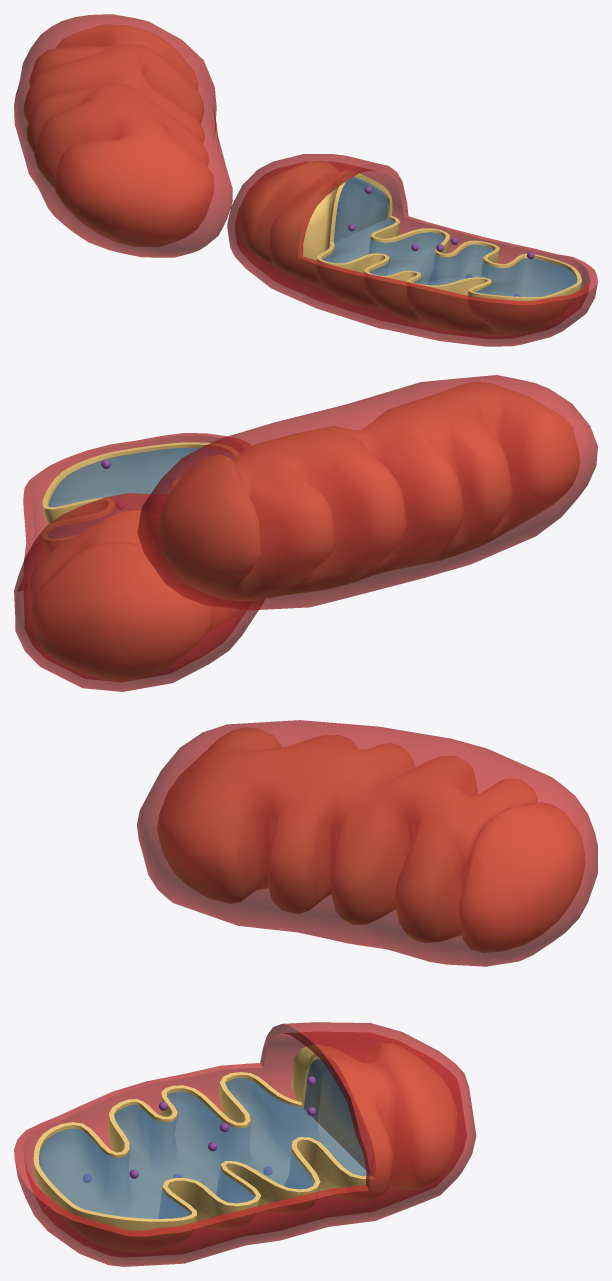
The model's file is mitochondria-open.web.glb.
3 views of the same model, one above another, from view 1: azimuth 30°, elevation 25°; view 2: azimuth 150°, elevation 25°; view 3: azimuth 270°, elevation 25° (orthographic). The views are drawn at different scales.
Parts seen in each view (by area): view 1: Transparent structures_0, Opaque structures_1; view 2: Transparent structures_0, Opaque structures_1; view 3: Transparent structures_0, Opaque structures_1.
Part boxes in pixels (left/top/right/bottom): Transparent structures_0: left=14, top=14, right=597, bottom=346; Opaque structures_1: left=24, top=24, right=581, bottom=335; Transparent structures_0: left=14, top=375, right=597, bottom=691; Opaque structures_1: left=30, top=382, right=579, bottom=680; Transparent structures_0: left=14, top=720, right=597, bottom=1266; Opaque structures_1: left=33, top=727, right=584, bottom=1251.
Bounding box in the file's own units: 0.7298 × 0.3931 × 0.6224.
Materials: 2 (2 with a texture image).
